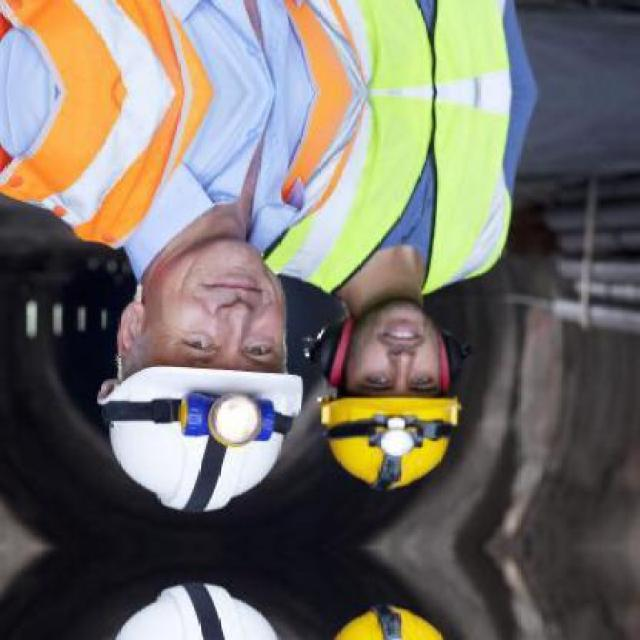safetyhelmet: (98, 306, 310, 508), (314, 348, 468, 502)
